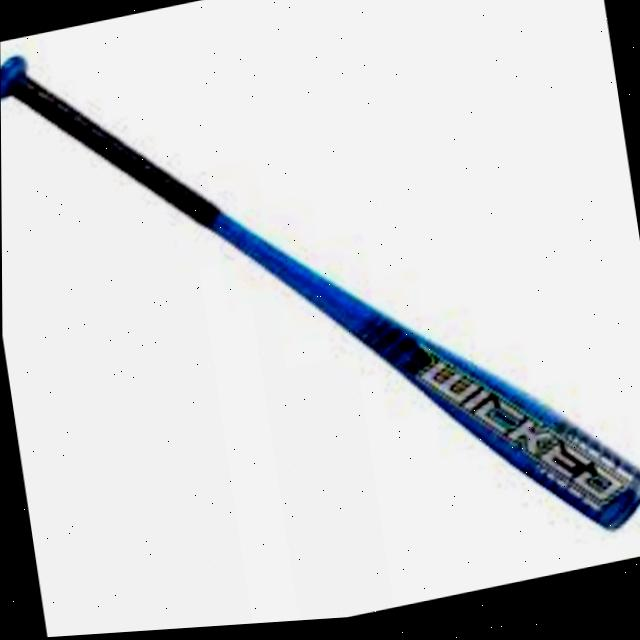baseball bat: (0, 50, 640, 539)
